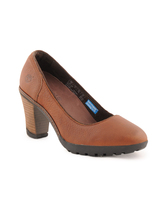shoes: (15, 48, 152, 159)
